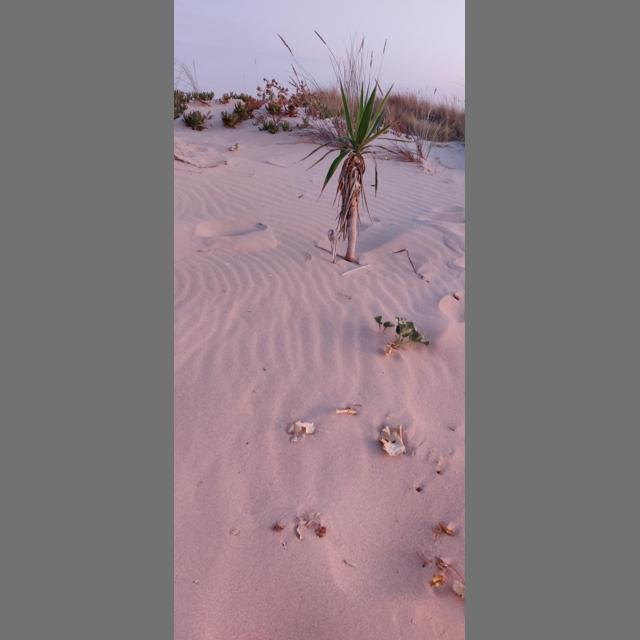litter: (343, 264, 371, 276)
